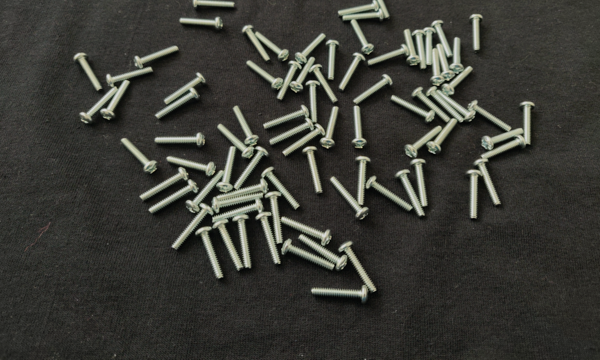longscrew: (337, 240, 377, 294), (171, 203, 215, 251), (298, 233, 349, 272), (365, 175, 413, 214), (148, 179, 200, 215), (281, 238, 336, 272), (184, 170, 226, 214), (330, 176, 370, 221), (139, 167, 190, 202), (212, 219, 245, 272), (261, 167, 301, 210), (233, 145, 270, 191), (280, 215, 333, 247), (154, 87, 202, 121), (394, 168, 426, 219), (195, 227, 225, 280), (282, 123, 327, 158), (472, 158, 503, 208), (467, 99, 512, 133), (78, 87, 119, 124), (254, 212, 282, 266), (164, 72, 208, 106), (120, 137, 159, 175), (426, 86, 465, 124), (410, 87, 451, 123), (217, 123, 256, 160), (436, 89, 477, 123), (268, 118, 316, 147), (390, 94, 436, 124), (353, 74, 394, 107), (99, 80, 131, 122), (215, 178, 270, 202), (262, 104, 310, 131), (404, 125, 443, 158), (212, 199, 265, 223), (310, 285, 369, 306), (309, 64, 339, 105), (301, 146, 326, 195), (426, 118, 459, 155), (232, 215, 254, 270), (241, 25, 272, 64), (73, 52, 103, 92), (276, 59, 303, 103), (246, 60, 284, 91), (480, 135, 527, 160), (166, 155, 217, 178), (338, 52, 366, 93), (212, 192, 264, 214), (232, 105, 259, 147), (294, 32, 327, 65), (441, 65, 475, 97), (255, 31, 290, 62), (133, 46, 180, 69), (264, 191, 284, 245), (106, 66, 155, 88), (216, 146, 238, 194), (465, 169, 485, 221), (367, 44, 411, 67), (409, 158, 429, 208), (289, 57, 316, 94), (481, 128, 524, 151), (353, 156, 372, 207), (320, 106, 341, 150), (350, 19, 375, 55), (154, 132, 206, 149), (431, 19, 453, 59), (519, 100, 536, 146), (337, 0, 380, 18), (436, 43, 456, 81), (179, 15, 224, 31), (305, 80, 321, 124), (403, 29, 421, 67), (412, 28, 428, 70), (469, 13, 485, 54), (353, 106, 368, 149), (342, 8, 385, 23), (325, 39, 339, 81), (423, 26, 437, 67), (450, 36, 465, 74), (430, 48, 445, 86), (368, 0, 392, 20), (192, 0, 236, 10)
